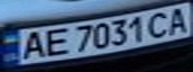0: (90, 20, 115, 50)
1: (124, 13, 151, 42)
3: (109, 17, 130, 46)
7: (69, 23, 97, 53)
A: (15, 29, 48, 61), (163, 5, 193, 35)
C: (142, 9, 175, 38)
E: (39, 25, 72, 57)
